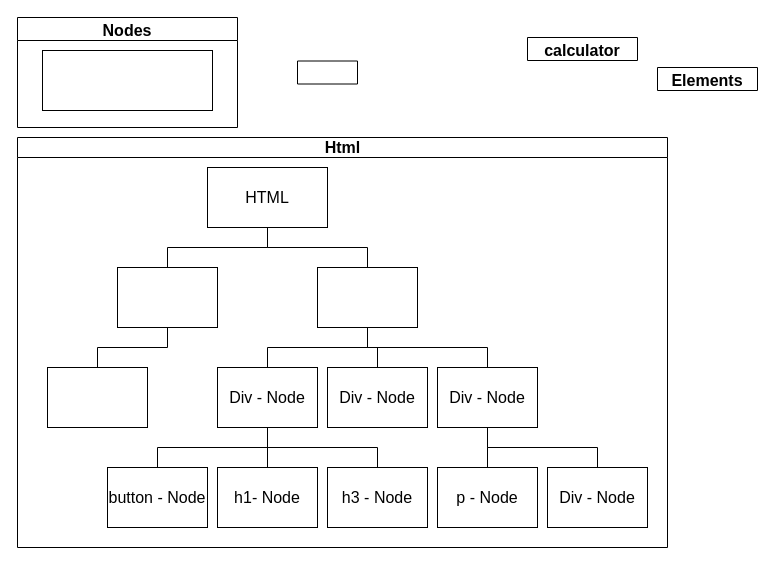
Image size: 775x565. Some labels were removed from this diagram. Each missing label, with the centre of its shape:
"body - Node" belongs at [367,297].
"Div" belongs at [327,72].
"Head - Node" belongs at [167,297].
"title - Node" belongs at [97,397].
"כל הצמתים בטופס" belongs at [127,80].
